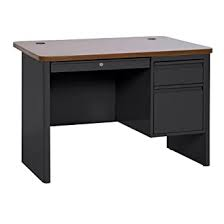desk_089.jpg: (6, 23, 218, 186)
